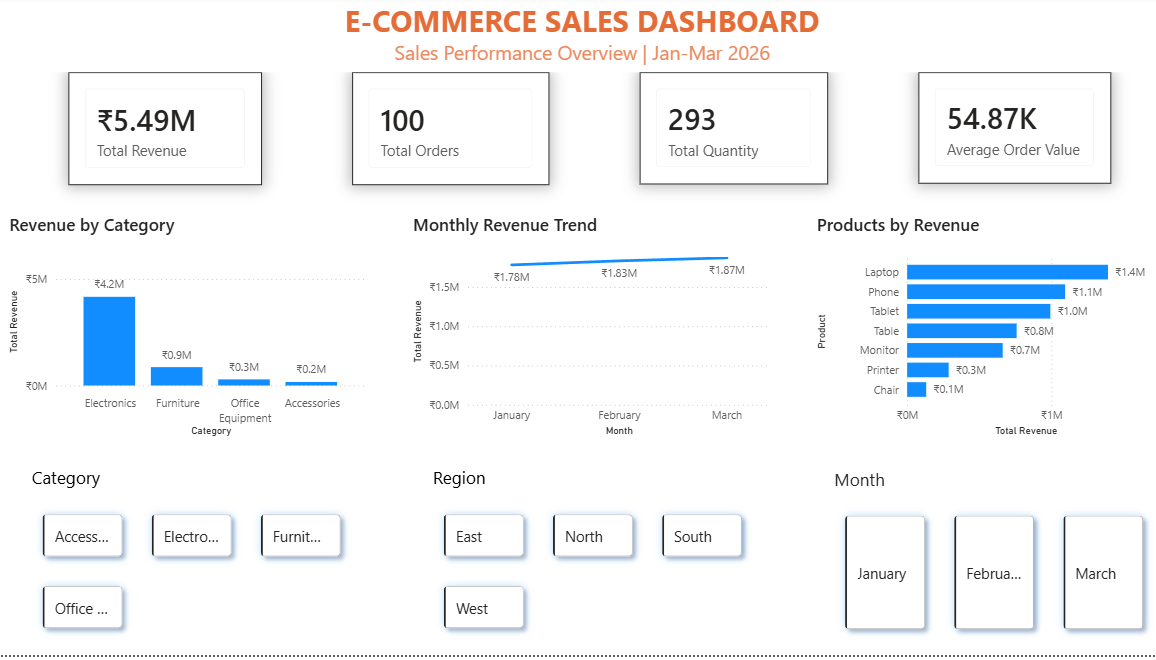

Layout of this report page (visuals, bound fields, positions):
{"tool":"powerbi","page":{"name":"Page 1","canvas":[1280,720],"ordinal":0},"visuals":[{"type":"cardVisual","fields":{"Data":["Cleaned_Data.Total Revenue"]},"box":[78.6,82.9,211.3,123.5],"z":1000},{"type":"cardVisual","fields":{"Data":["Cleaned_Data.Total Orders"]},"box":[388.6,82.9,215.4,123.5],"z":2000},{"type":"cardVisual","fields":{"Data":["Cleaned_Data.Total Quantity"]},"box":[702.7,82.9,205.8,122.1],"z":3000},{"type":"cardVisual","fields":{"Data":["Cleaned_Data.Average Order Value"]},"box":[1007.1,82.9,210,121.4],"z":4000},{"type":"clusteredColumnChart","title":"Revenue by Category","fields":{"Y":["Cleaned_Data.Total Revenue"],"Category":["Cleaned_Data.Category"]},"box":[10,235.7,400,250],"z":5000},{"type":"lineChart","title":"Monthly Revenue Trend","fields":{"Y":["Cleaned_Data.Total Revenue"],"Category":["Cleaned_Data.Order_Month"]},"box":[450.5,235.7,400,250],"z":6000},{"type":"barChart","title":"Products by Revenue","fields":{"Y":["Cleaned_Data.Total Revenue"],"Category":["Cleaned_Data.Product"]},"box":[891,235.7,389,250],"z":7000},{"type":"advancedSlicerVisual","fields":{"Values":["Cleaned_Data.Region"]},"box":[472.3,513.2,360.3,195.2],"z":8000},{"type":"textbox","box":[0,0,1280.3,83.3],"z":9000},{"type":"advancedSlicerVisual","title":"Month","fields":{"Values":["Cleaned_Data.Order_Month"]},"box":[910.4,514.6,360.3,193.8],"z":10000},{"type":"advancedSlicerVisual","fields":{"Values":["Cleaned_Data.Category"]},"box":[34.1,513.2,360,195],"z":11000}]}

Visuals, with their boxes in screenshot pixels (x1, y1, x2, y2), scaled from the page's 1280x720 canvas onto the 1156x660 screenshot:
cardVisual - Cleaned_Data.Total Revenue: 71/76/262/189
cardVisual - Cleaned_Data.Total Orders: 351/76/545/189
cardVisual - Cleaned_Data.Total Quantity: 635/76/820/188
cardVisual - Cleaned_Data.Average Order Value: 910/76/1099/187
"Revenue by Category" clusteredColumnChart: 9/216/370/445
"Monthly Revenue Trend" lineChart: 407/216/768/445
"Products by Revenue" barChart: 805/216/1155/445
advancedSlicerVisual - Cleaned_Data.Region: 427/470/752/649
textbox: 0/0/1155/76
"Month" advancedSlicerVisual: 822/472/1148/649
advancedSlicerVisual - Cleaned_Data.Category: 31/470/356/649
